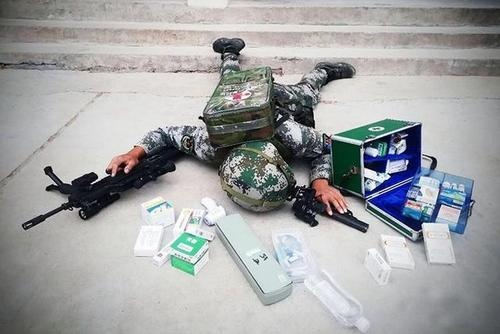falling: (98, 32, 389, 233)
